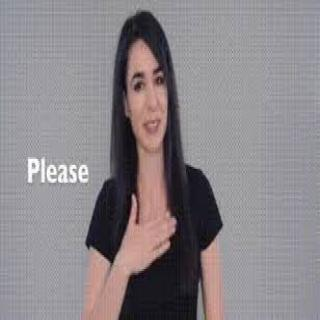Please: (124, 186, 180, 272)
